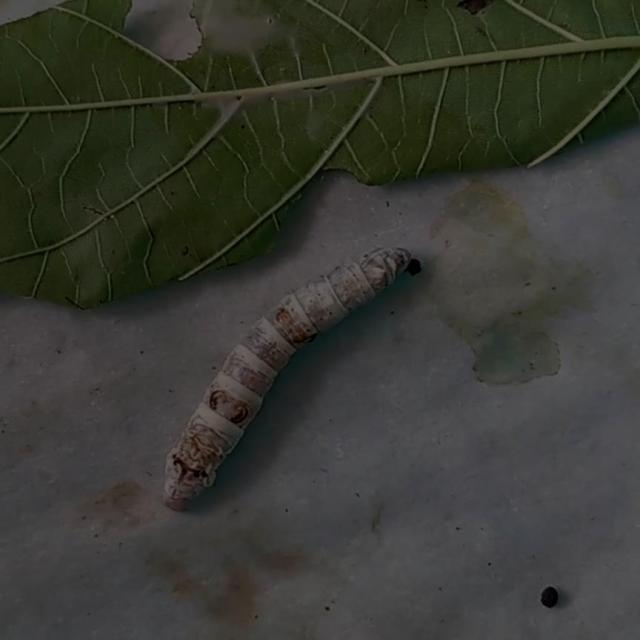Grasserie: (156, 232, 418, 521)
